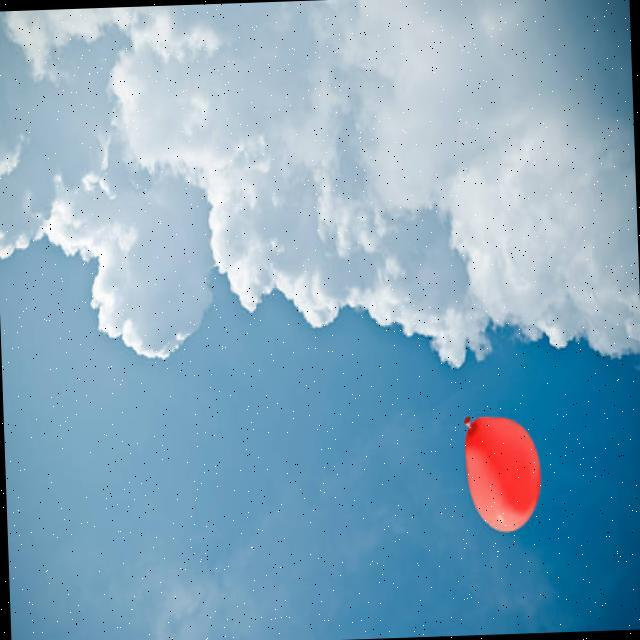balloon: (459, 400, 545, 540)
